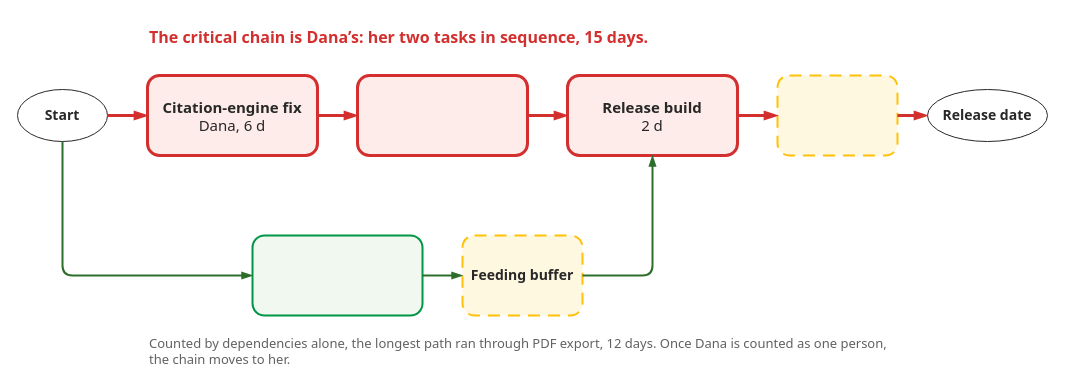
Some shapes in this 1065 by 388 pixel diagram are drawn without their labels. Here are the shapes that lost their labels. From the top down, the centre of each, then its label:
At (442,115): "Citation styles Dana, 7 d".
At (837,115): "Project buffer".
At (337,275): "PDF export Ana, 10 d".
